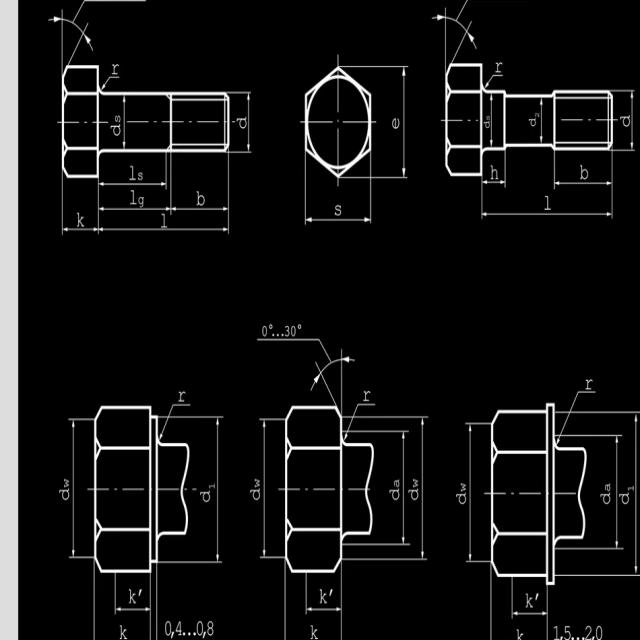marking_line: (47, 6, 109, 61), (430, 7, 483, 62), (310, 353, 356, 414), (64, 225, 229, 234), (632, 413, 640, 574), (398, 67, 409, 177), (481, 210, 612, 219), (213, 420, 221, 561), (419, 420, 427, 561), (261, 422, 269, 555), (399, 432, 406, 542), (71, 420, 76, 556), (468, 425, 473, 560), (100, 204, 169, 213), (556, 179, 611, 190), (309, 215, 373, 224), (615, 439, 620, 545), (101, 69, 121, 90), (173, 205, 228, 212), (629, 90, 635, 151), (122, 98, 128, 149), (307, 605, 341, 614), (117, 604, 149, 613), (246, 95, 251, 151), (514, 609, 546, 617), (484, 179, 504, 186)
numeric: (160, 616, 218, 640), (552, 619, 604, 640)
special_symbol: (258, 334, 332, 366), (344, 399, 378, 441), (161, 400, 190, 442), (484, 73, 504, 89)
